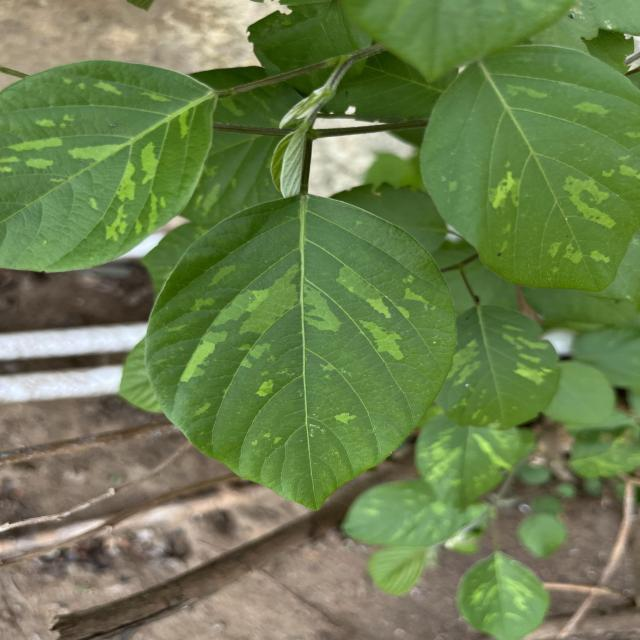Desmodium gangeticum: (141, 188, 467, 517), (415, 43, 640, 295), (0, 56, 221, 275)
